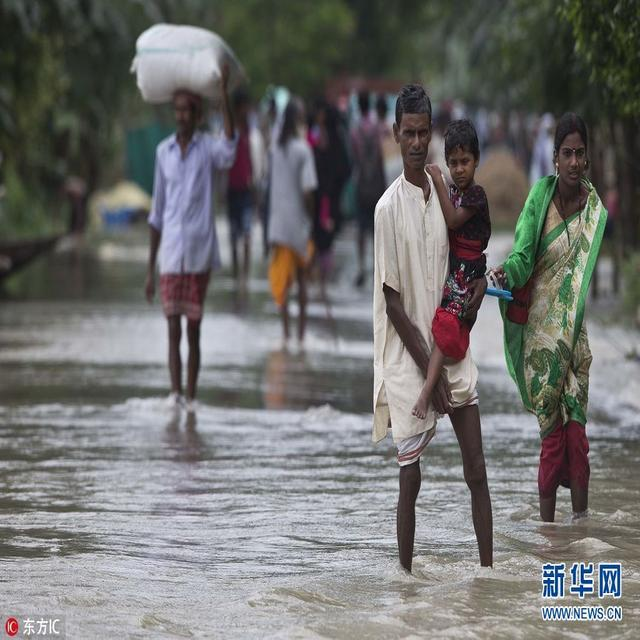Person-RiskLevel2: (364, 71, 507, 571), (494, 111, 612, 519), (140, 61, 235, 408), (245, 72, 330, 364)
